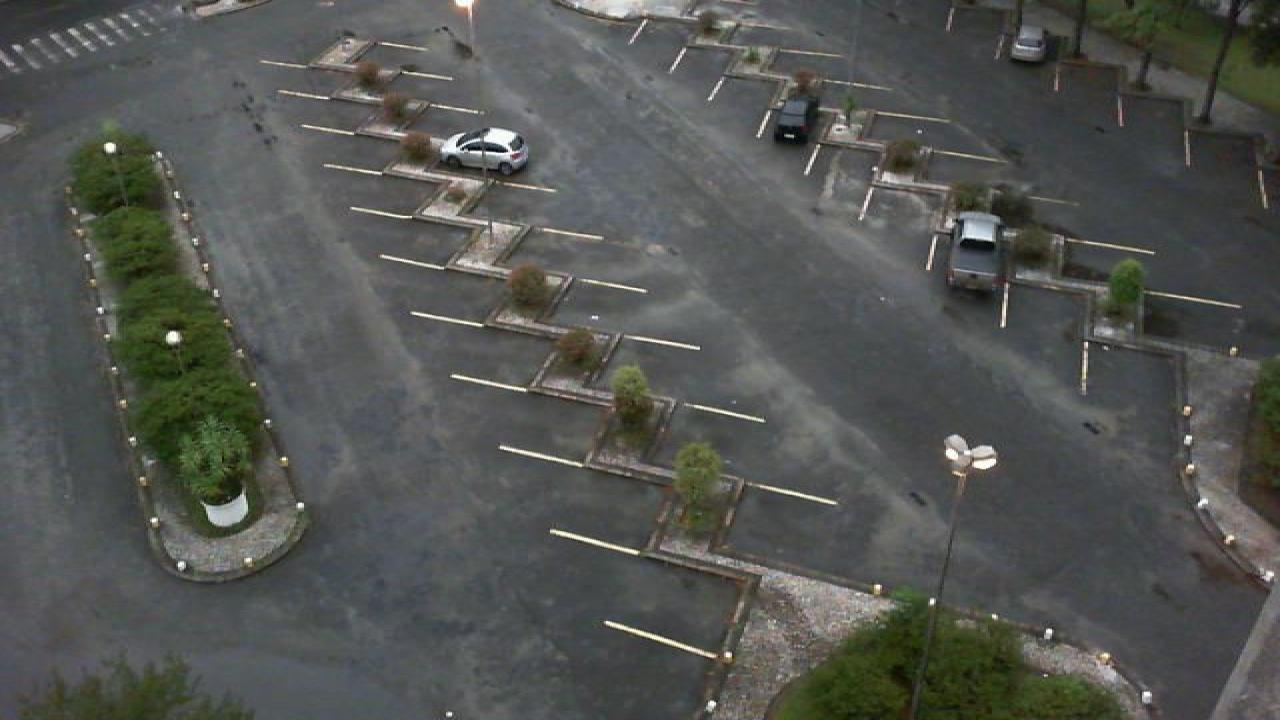Car: (946, 211, 1008, 292), (440, 126, 530, 173), (770, 90, 818, 146), (1006, 25, 1048, 64)
